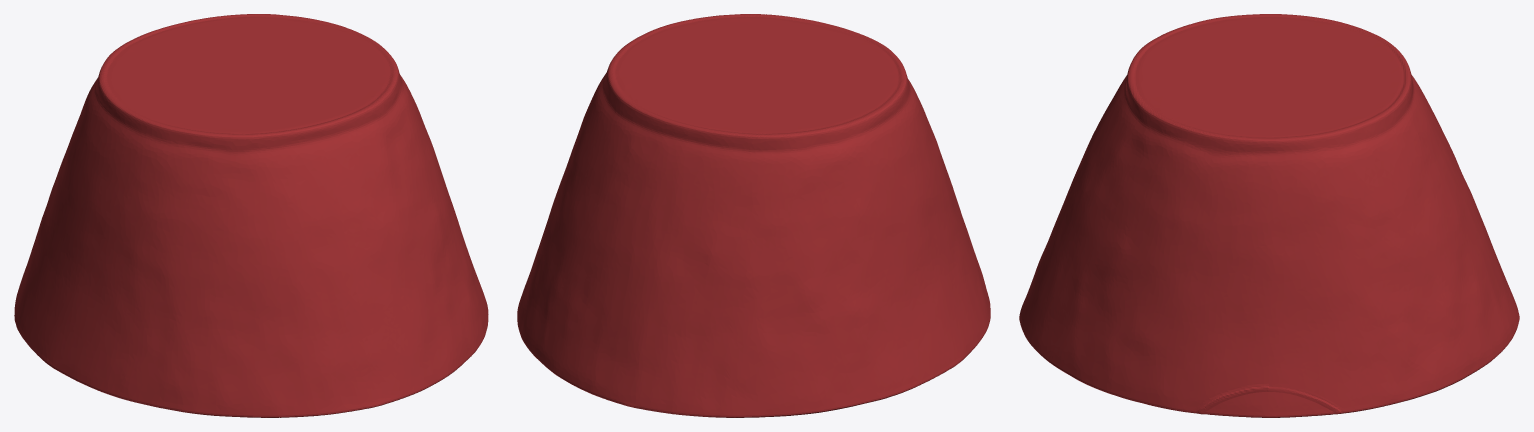
The model's file is skirt.glb.
3 views of the same model, side by side, from view 1: azimuth 30°, elevation 25°; view 2: azimuth 150°, elevation 25°; view 3: azimuth 270°, elevation 25° (orthographic).
Visible parts, largest first — view 1: geometry_0; view 2: geometry_0; view 3: geometry_0.
Part boxes in pixels (left/top/right/bottom): geometry_0: left=14, top=14, right=488, bottom=417; geometry_0: left=517, top=14, right=990, bottom=417; geometry_0: left=1019, top=14, right=1519, bottom=417.
Size of the model in its own units: 0.5167 by 0.2941 by 0.5511.
